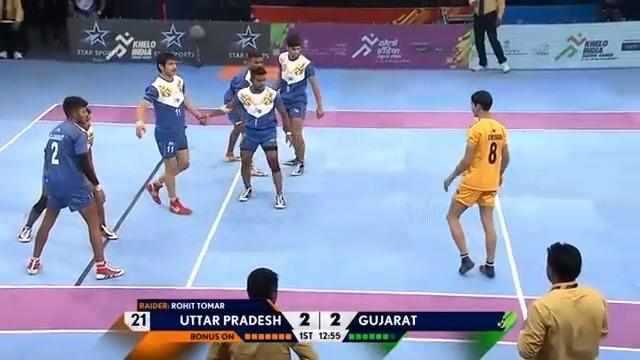Player: (23, 95, 125, 280), (134, 50, 209, 215), (516, 241, 609, 359), (222, 64, 294, 209), (272, 32, 324, 175), (222, 48, 268, 176)
Raider: (442, 89, 510, 278)
referee: (205, 267, 318, 359), (467, 0, 510, 73)
